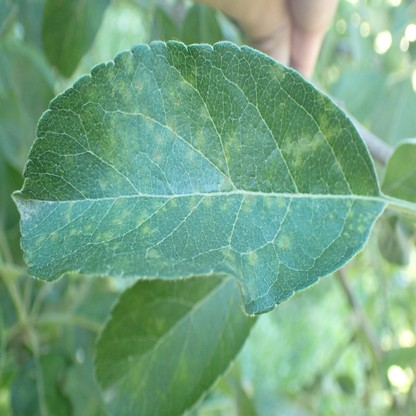scab: (27, 52, 377, 296), (175, 357, 187, 383), (152, 317, 164, 332)
